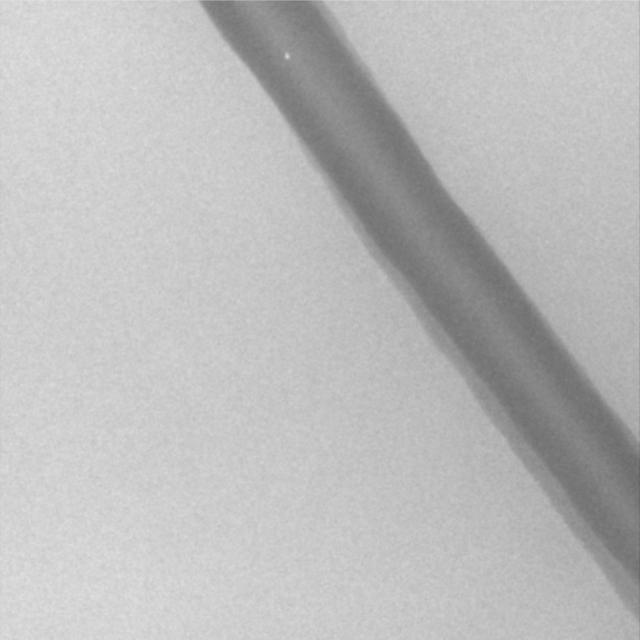air hole: (284, 53, 291, 60)
